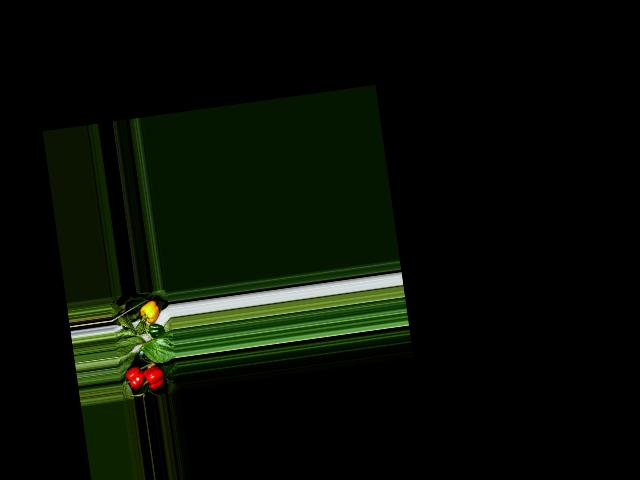bell_pepper: (137, 297, 162, 324)
